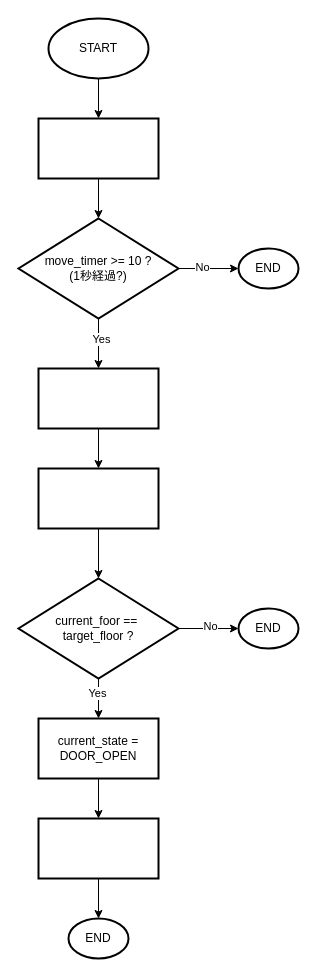
Image size: 316x976. Some labels were removed from this diagram. Each missing label, with the centre of its shape:
current_floor++: (98,398)
door_timer = 0: (98,848)
move_timer = 0: (98,498)
move_timerを加算: (98,148)
